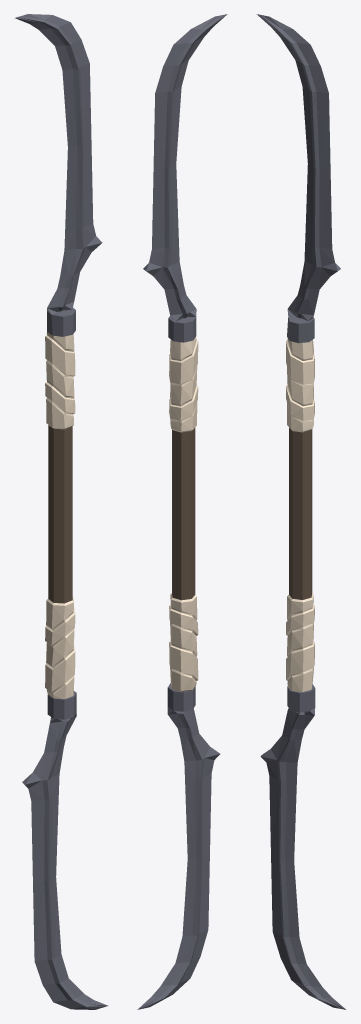
Rendered from _SPAIR_2.fbx.
3 views of the same model, side by side, from view 1: azimuth 30°, elevation 25°; view 2: azimuth 210°, elevation 25°; view 3: azimuth 330°, elevation 25° (orthographic). The views are drawn at different scales.
Parts seen in each view (by area): view 1: SPAIR_2; view 2: SPAIR_2; view 3: SPAIR_2.
Part boxes in pixels (<box>): SPAIR_2: <box>15,14,108,1009</box>; SPAIR_2: <box>137,14,227,1009</box>; SPAIR_2: <box>256,14,346,1009</box>.
Size of the model in its own units: 20.15 by 207 by 5.7.
